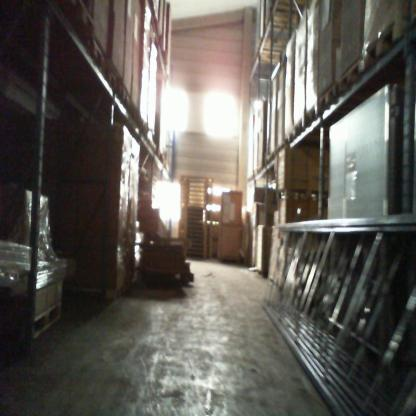pallet: (362, 10, 409, 70), (33, 302, 63, 341), (337, 58, 364, 98), (71, 0, 95, 40), (317, 81, 338, 113), (87, 38, 104, 70), (103, 63, 117, 90), (305, 103, 317, 128), (118, 83, 129, 107), (293, 116, 305, 136), (284, 129, 294, 146), (128, 105, 136, 120), (277, 142, 285, 155), (265, 155, 272, 165)
